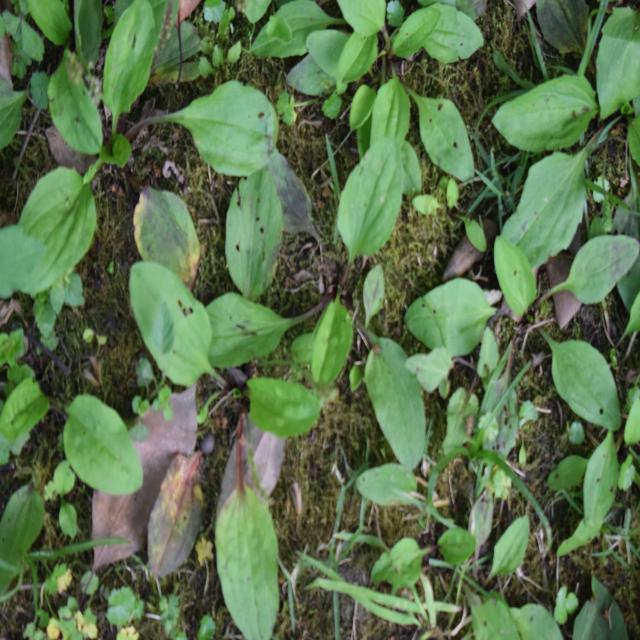plantain: (236, 167, 447, 477)
